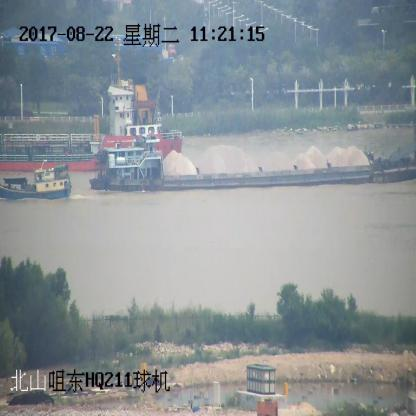Fishing Boat: (0, 161, 72, 201)
